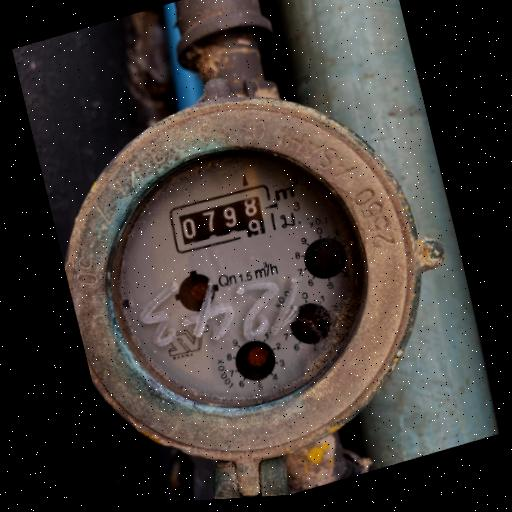0: (178, 210, 206, 246)
7: (198, 206, 227, 241)
8: (240, 195, 267, 238)
9: (219, 199, 248, 236)
border_water_meter_number: (166, 178, 280, 261)
